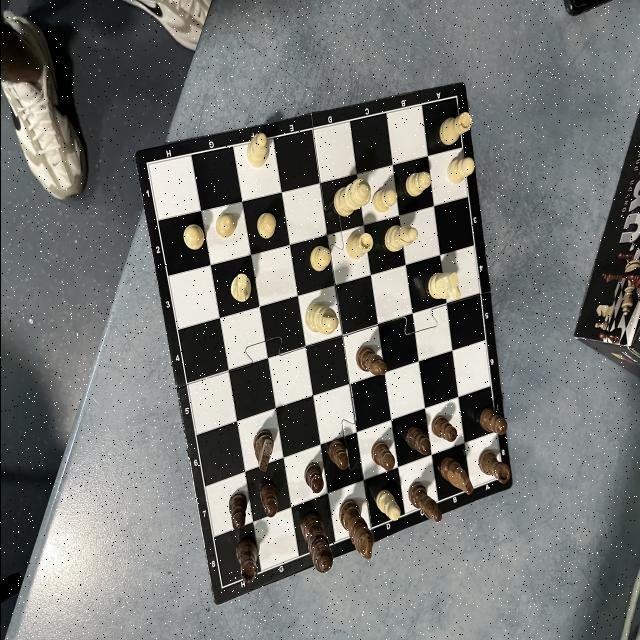Black-Bishop: (407, 482, 441, 522), (354, 345, 386, 376)
Black-King: (338, 498, 373, 560)
Black-Knight: (437, 456, 472, 496), (252, 428, 273, 472)
Black-Pawn: (478, 407, 507, 435), (404, 426, 430, 456), (430, 414, 456, 442), (370, 441, 394, 471), (228, 492, 246, 530), (327, 440, 348, 470), (303, 462, 323, 493), (260, 483, 278, 517)
Black-Queen: (299, 513, 332, 573)
Black-Rook: (478, 449, 510, 485), (235, 539, 257, 584)
White-Bishop: (383, 225, 418, 252)
White-King: (304, 302, 338, 335)
White-Knight: (426, 272, 461, 300)
White-Pawn: (375, 489, 400, 521), (446, 156, 474, 184), (404, 171, 430, 197), (372, 188, 396, 212), (308, 246, 330, 272)
White-Rook: (438, 112, 471, 146), (344, 232, 372, 260)
